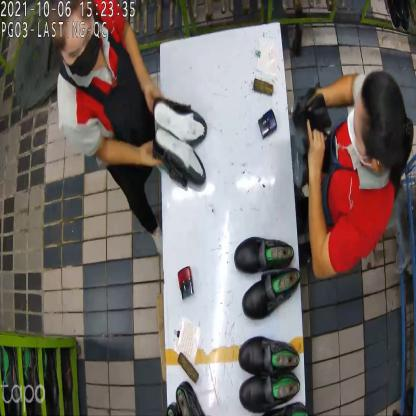shoes: (235, 234, 299, 324), (239, 333, 305, 414), (152, 89, 207, 184)
stamp: (178, 268, 196, 301), (258, 108, 276, 139)
